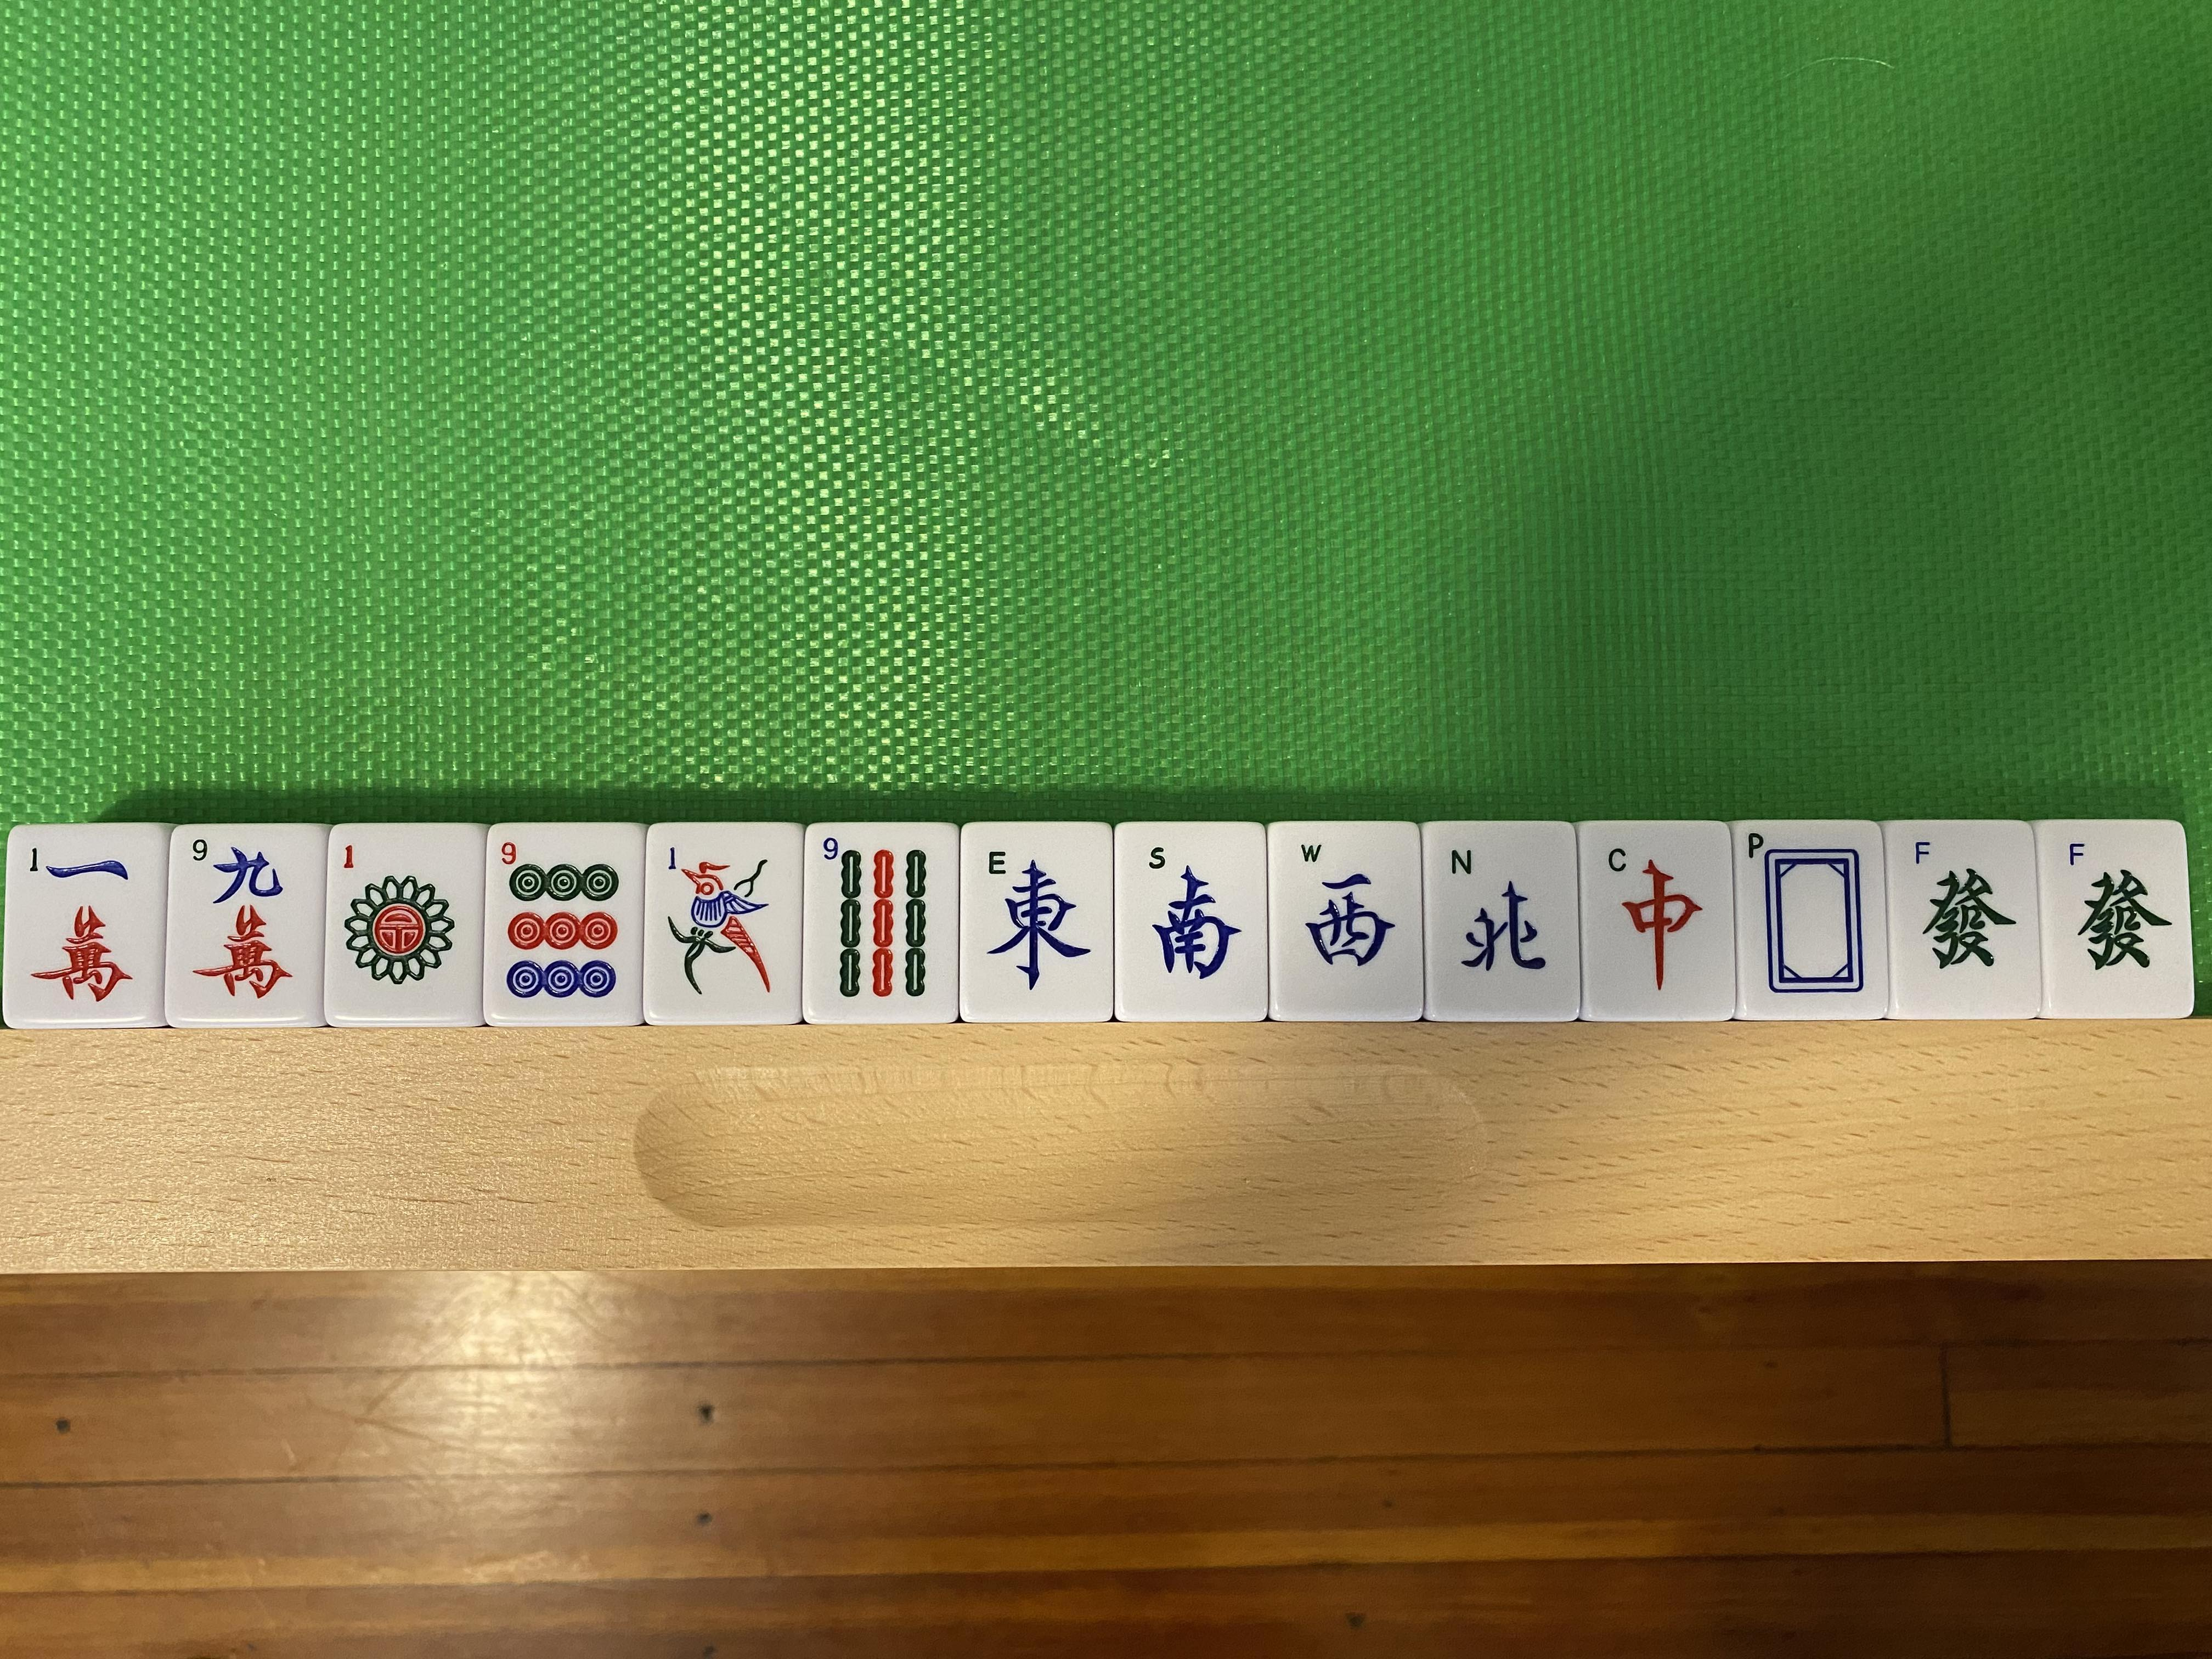bamboo-nine: (812, 830, 951, 1018)
bamboo-one: (655, 835, 787, 1016)
character-nine: (179, 828, 312, 1012)
character-one: (12, 831, 155, 1016)
circle-nine: (488, 831, 632, 1014)
circle-one: (331, 833, 462, 1014)
honor-blue_dragon: (1745, 824, 1879, 1012)
honor-east_wind: (968, 830, 1108, 1014)
honor-green_dragon: (1897, 826, 2033, 1012), (2050, 824, 2181, 1012)
honor-north_wind: (1428, 831, 1571, 1012)
honor-red_dragon: (1585, 828, 1731, 1012)
honor-south_wind: (1125, 830, 1258, 1016)
honor-west_wind: (1280, 831, 1411, 1012)
